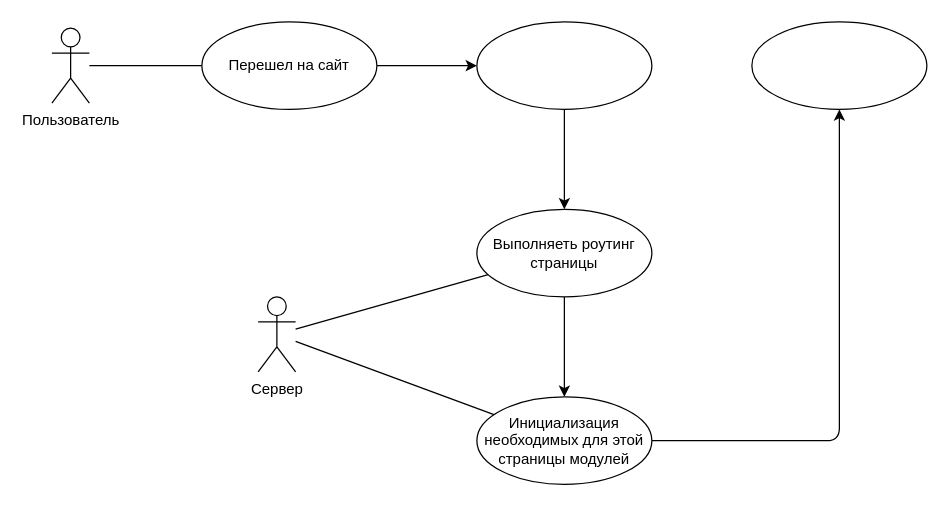
This 949x506 diagram has some shape labels left out. Each missing label, with the box of its shape:
Отправить запрос на получение страницы: (476, 21, 652, 109)
Получение ответа: (751, 21, 927, 109)
